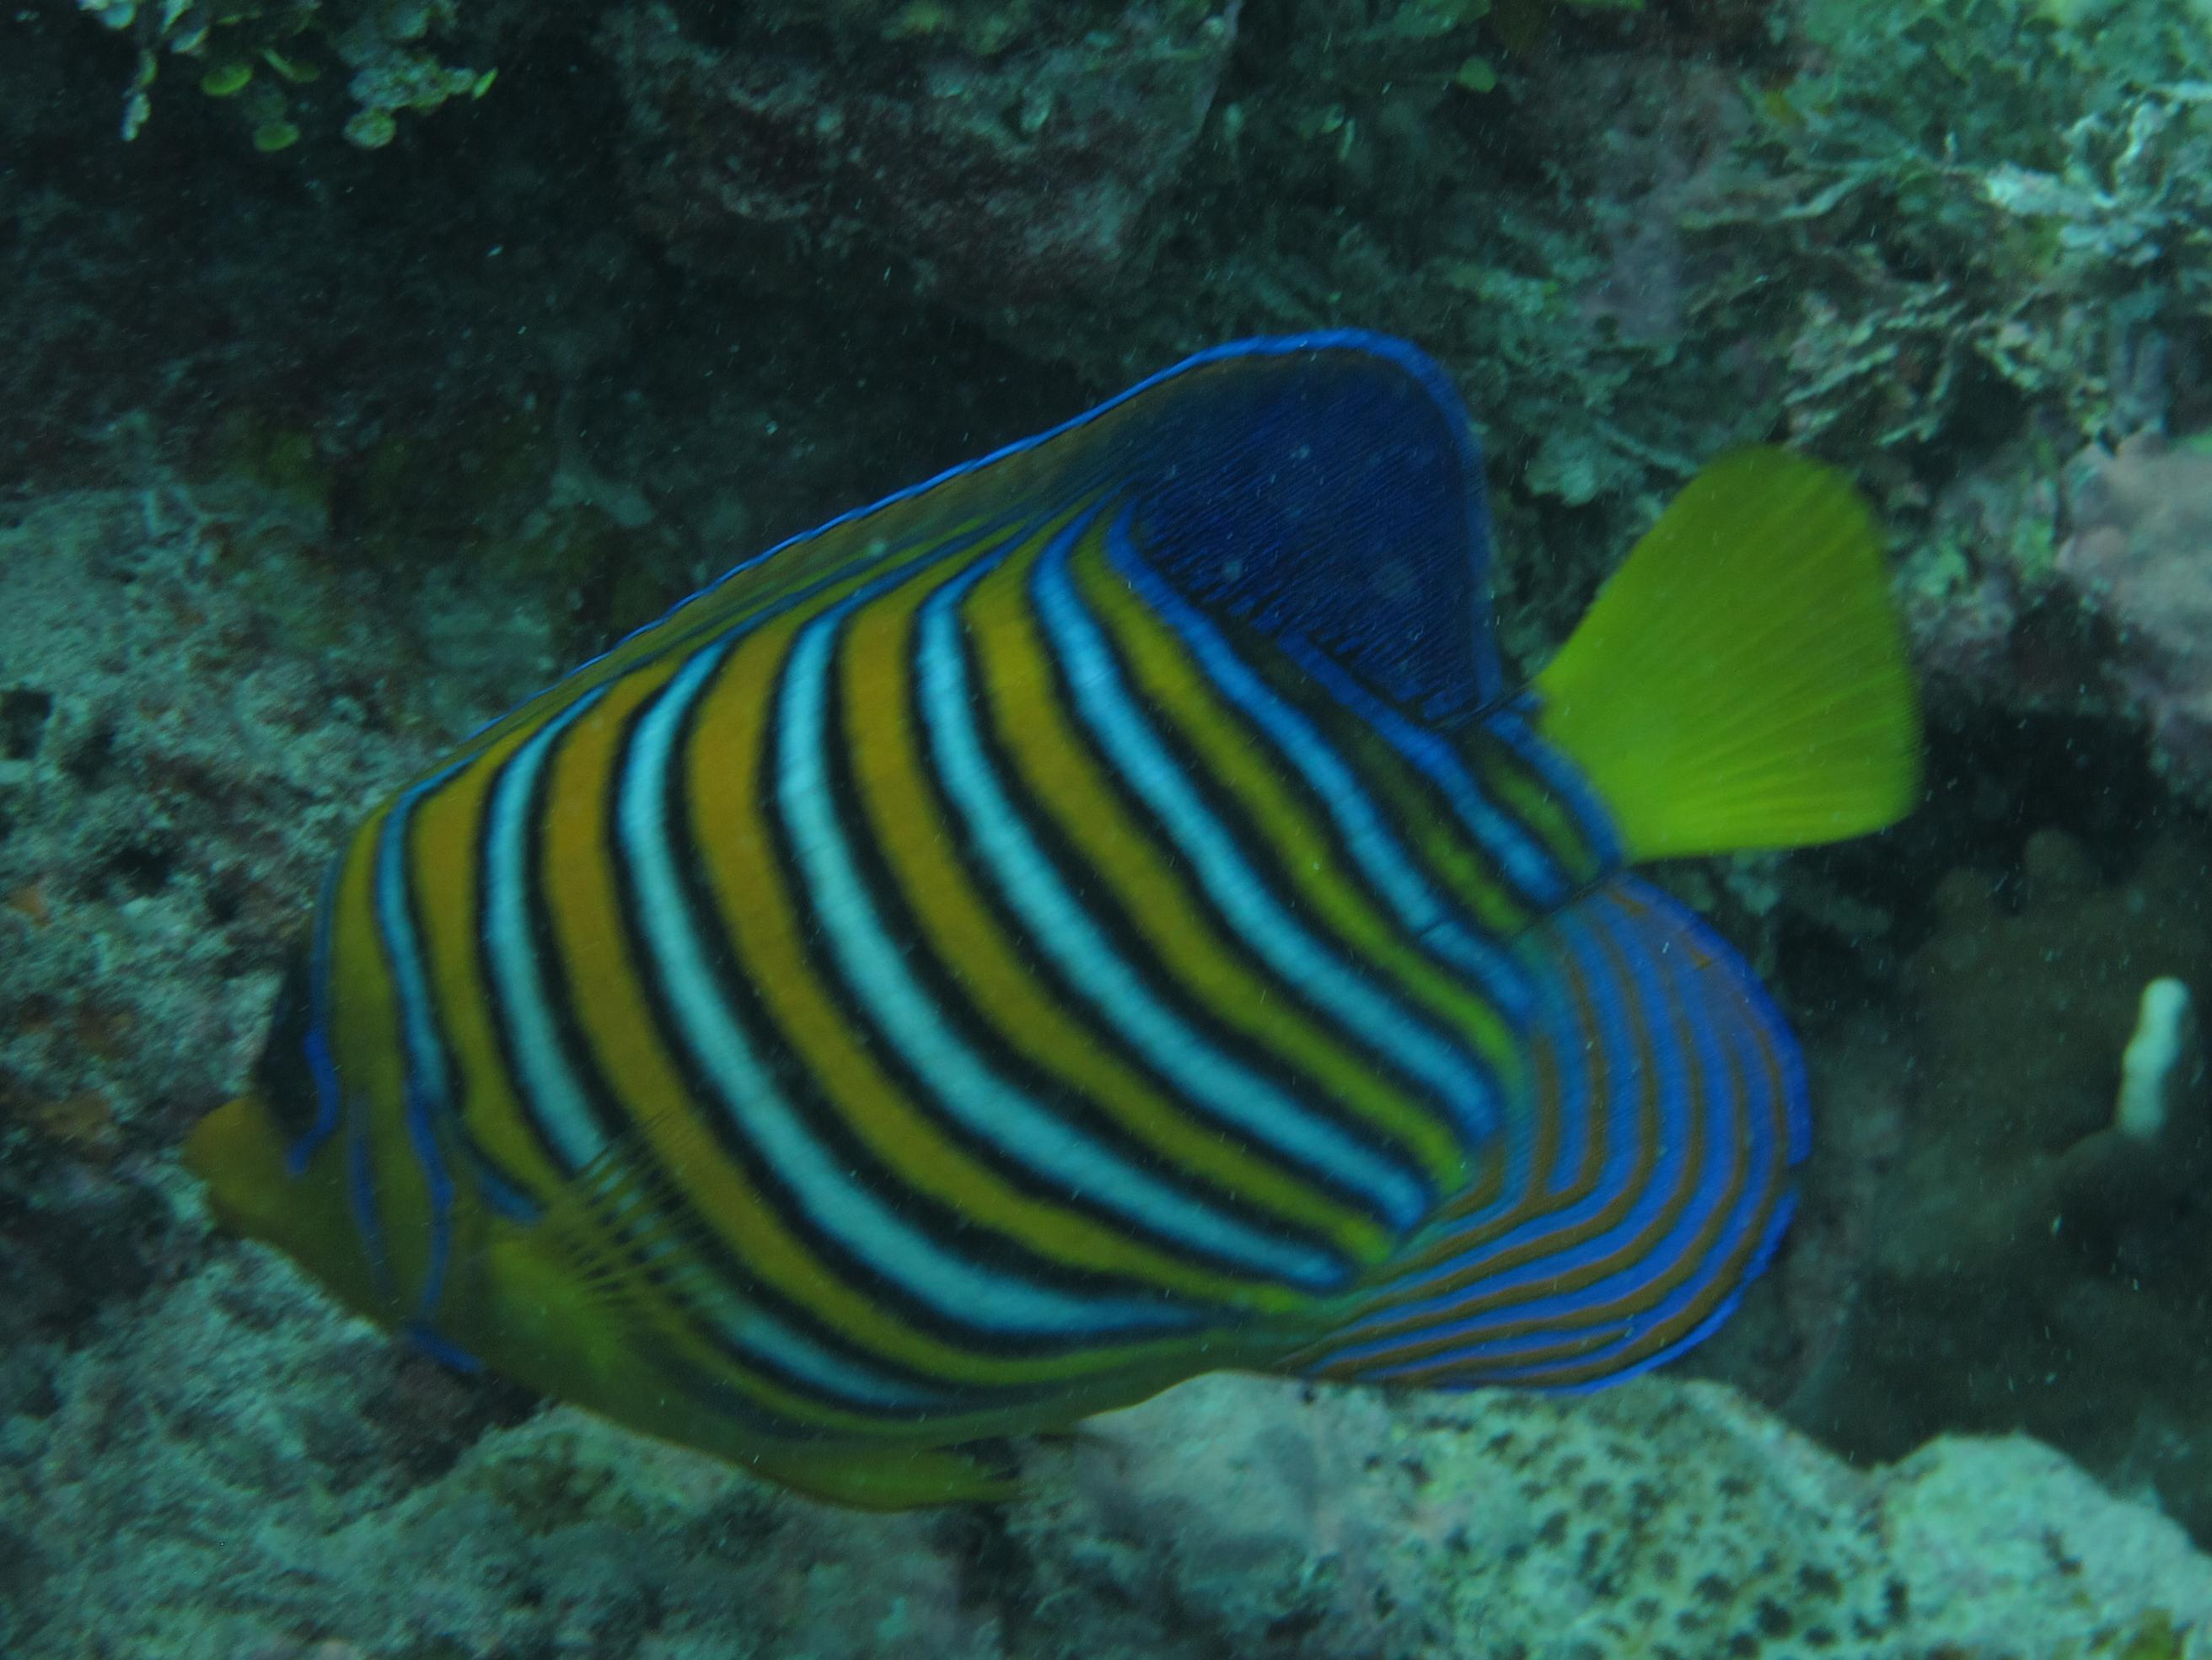Fish: (19, 206, 2013, 1573)
